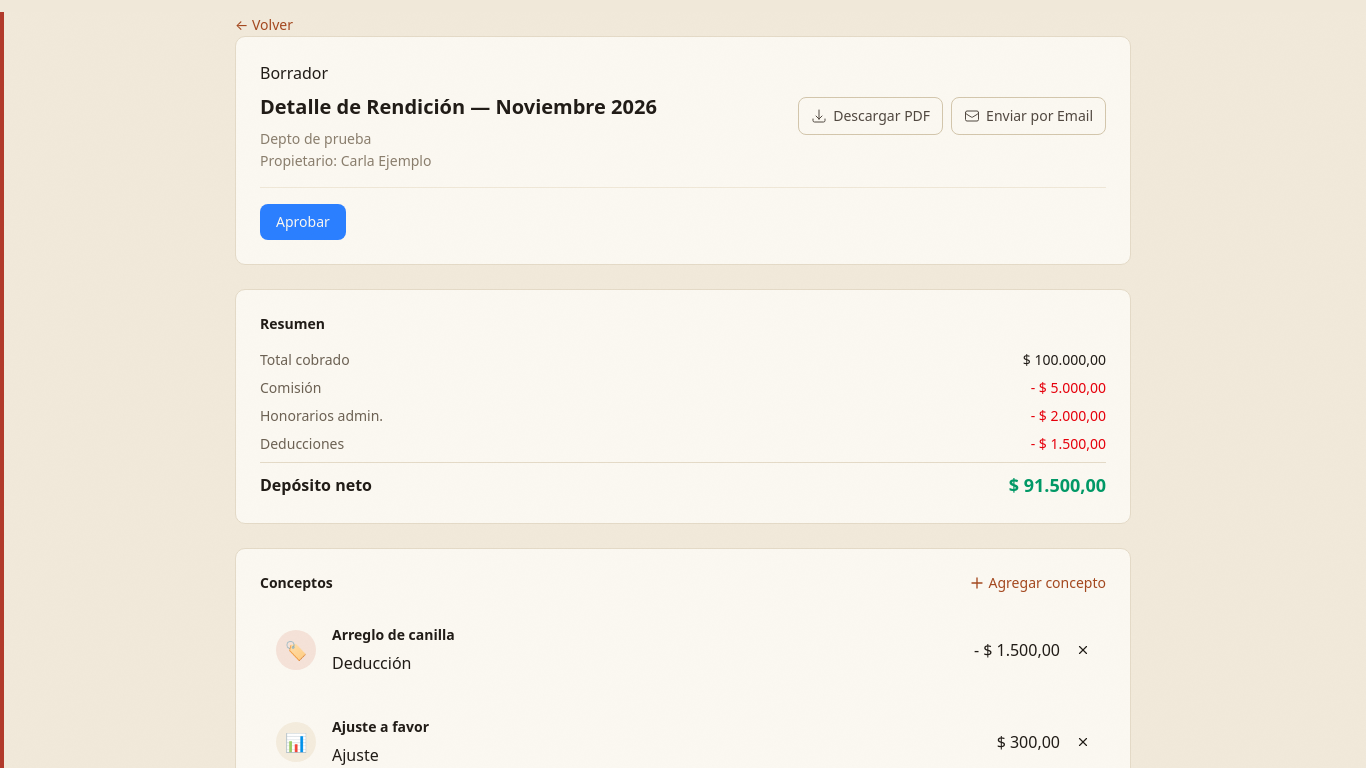
RenditionDetail › muestra el error genérico si la transición falla sin ApiRequestError
Expected: the heading "Detalle de Rendición — Noviembre 2026" is shown, [260,93,657,121]
Step 1. Click the button "Aprobar" → click(303, 222), box [260,204,346,240]
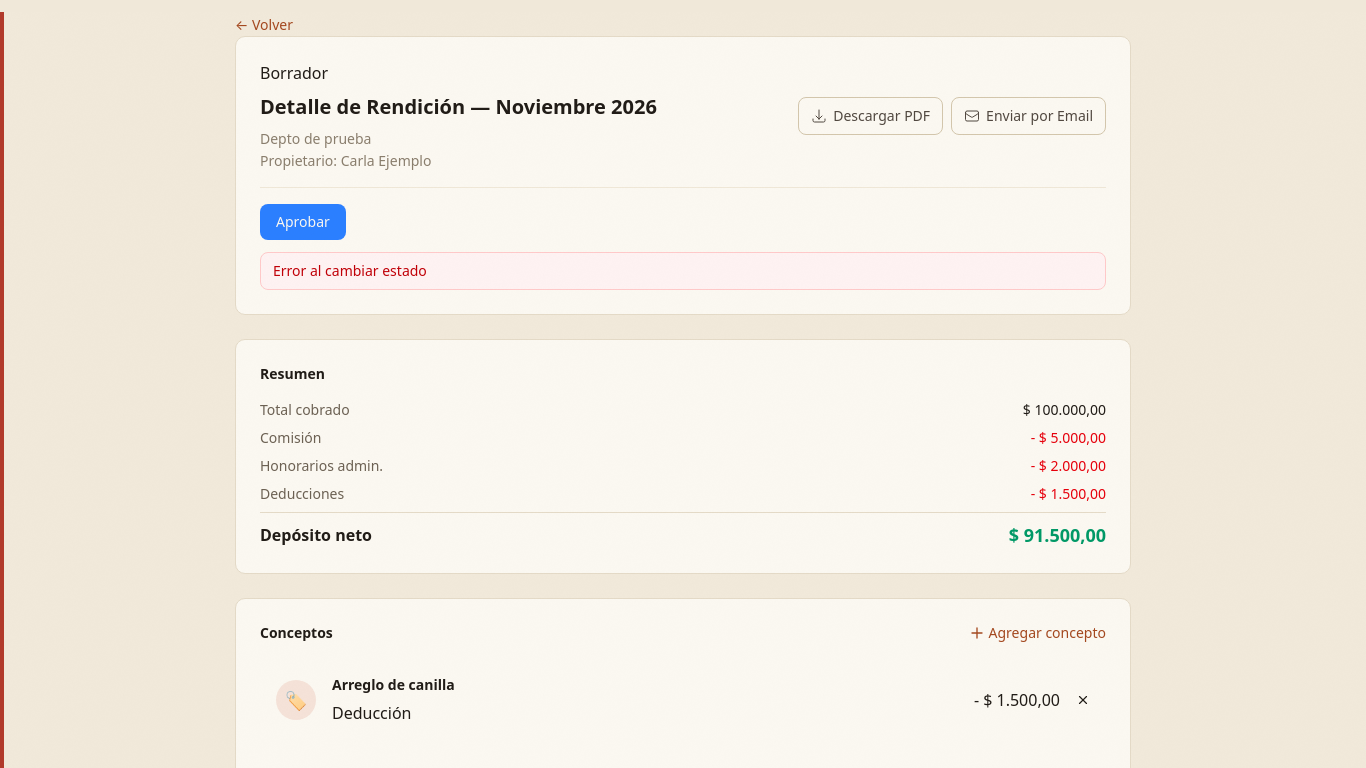
Expected: the text "Error al cambiar estado" is shown, [260,252,1106,290]
